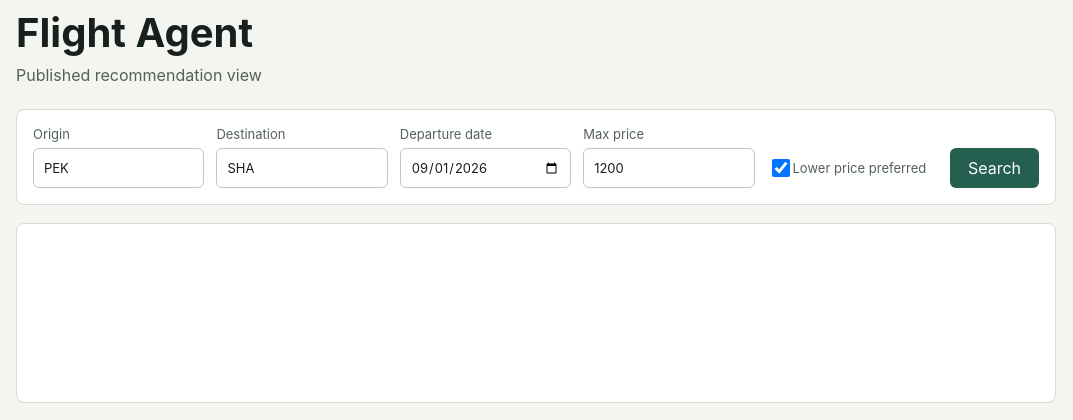
Test: App › renders backend outcome FILTER_EMPTY without a fake publication
The image size is (1073, 420).
Click the button "Search": point(994, 168) [950,148,1039,188]
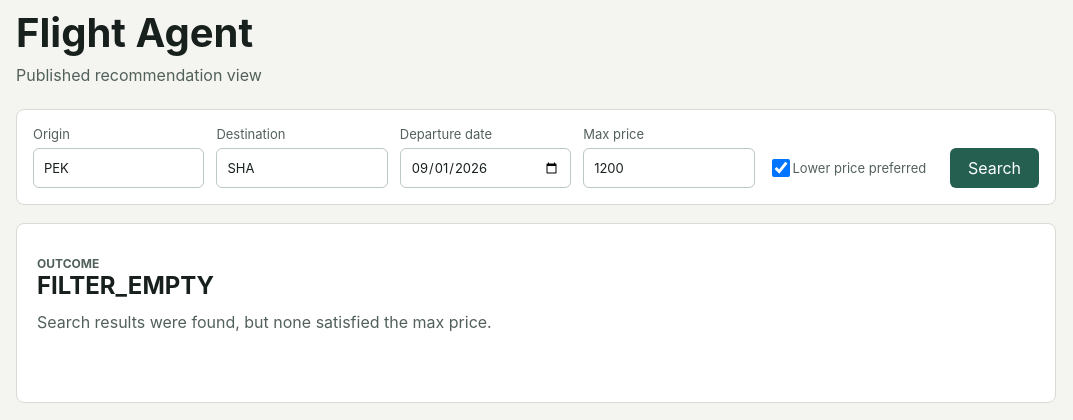
Now the heading "FILTER_EMPTY" is shown, box [37,271,214,300]
Now the text "Search results were found, but none satisfied the max price." is shown, box [37,312,492,332]
